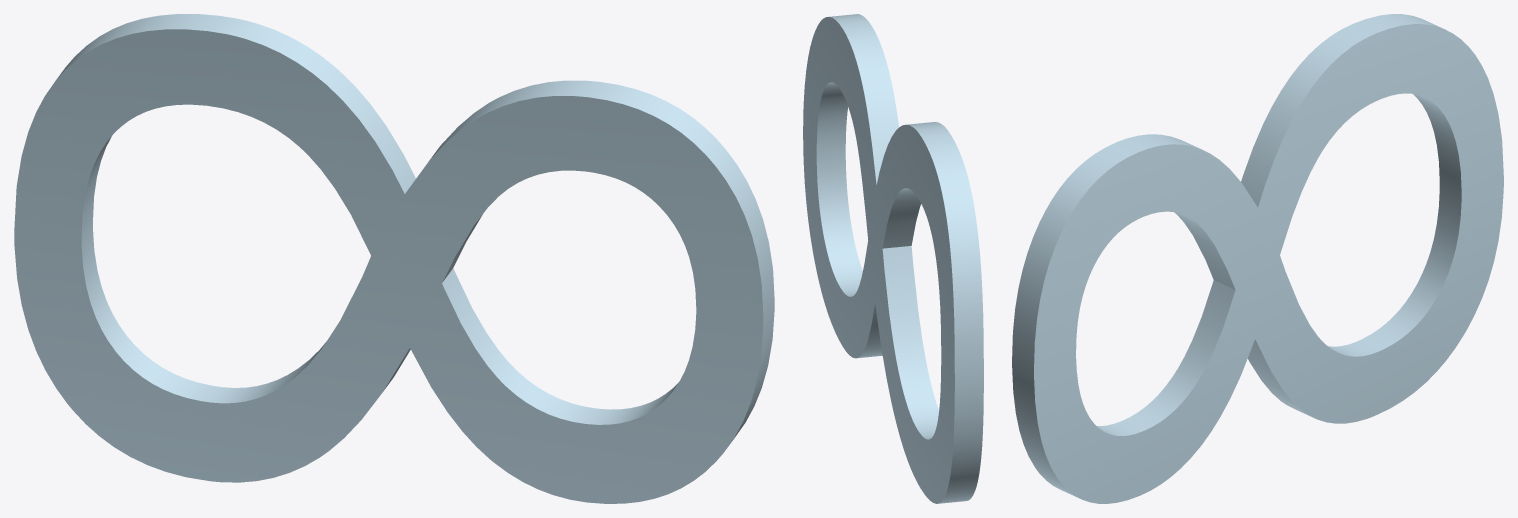
Rendered from Number_8.gltf.
3 views of the same model, side by side, from view 1: azimuth 30°, elevation 25°; view 2: azimuth 150°, elevation 25°; view 3: azimuth 270°, elevation 25° (orthographic). The views are drawn at different scales.
Visible parts, largest first — view 1: Sub_1_Cell_3_2_Number_8; view 2: Sub_1_Cell_3_2_Number_8; view 3: Sub_1_Cell_3_2_Number_8.
Boxes of the visible parts, x1,y1,x2,y2 form: Sub_1_Cell_3_2_Number_8: (14,14,774,503); Sub_1_Cell_3_2_Number_8: (803,14,983,503); Sub_1_Cell_3_2_Number_8: (1012,14,1503,503).
Size of the model in its own units: 0.0191 by 0.0166 by 0.0193.
